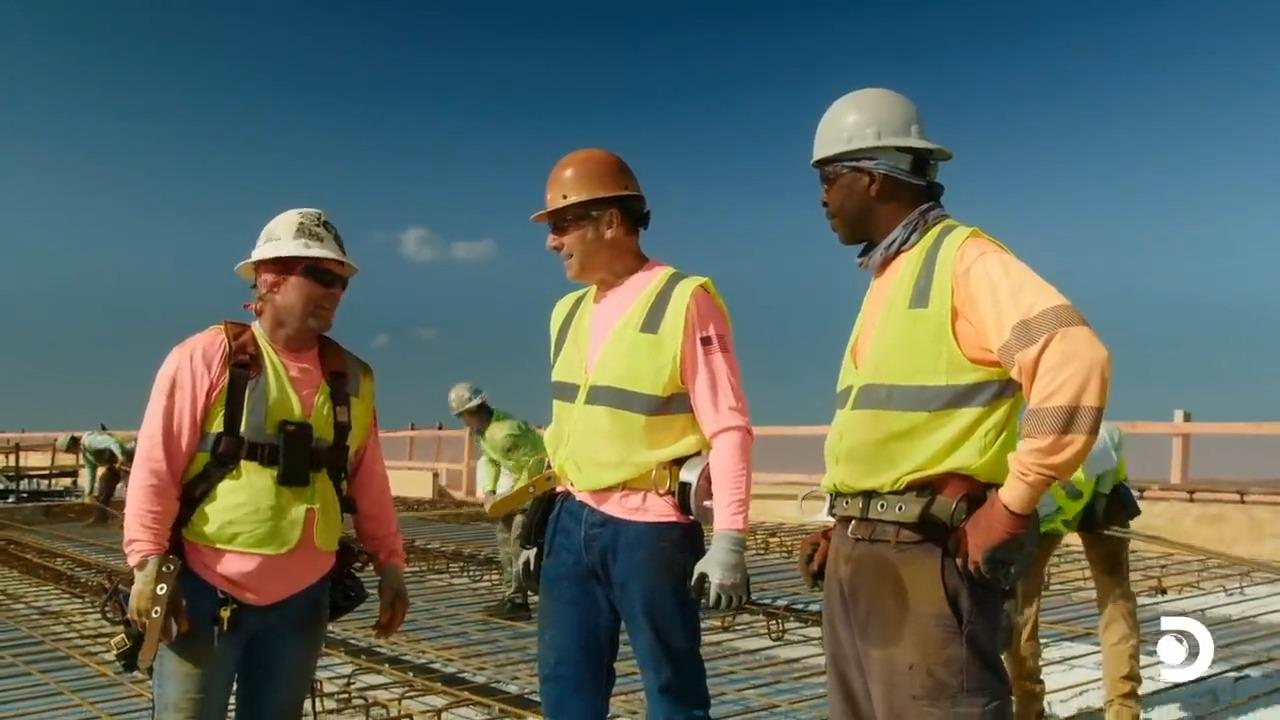Gloves: (939, 490, 1022, 579), (122, 564, 200, 639), (688, 544, 758, 614), (370, 564, 418, 641)
Helmet: (810, 86, 953, 170), (234, 207, 358, 285), (529, 147, 645, 223), (447, 381, 486, 416)
Person: (797, 86, 1111, 719), (120, 207, 409, 718), (528, 147, 754, 719), (1001, 423, 1143, 719), (446, 380, 550, 621)
Safety Boot: (488, 590, 523, 613)
Safety Vest: (208, 342, 354, 555), (860, 294, 1023, 481), (549, 300, 681, 479), (490, 426, 533, 467)
